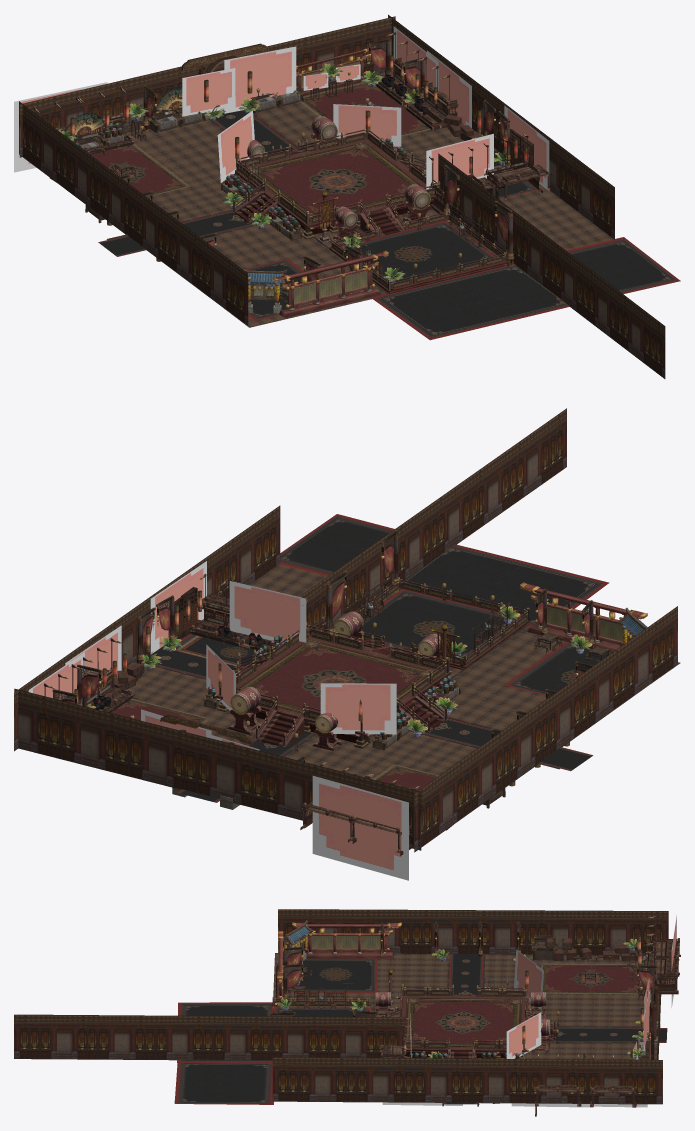
3 renders of one model, top to bottom at view 1: azimuth 30°, elevation 25°; view 2: azimuth 150°, elevation 25°; view 3: azimuth 270°, elevation 25°, orthographic. The views are drawn at different scales.
Parts seen in each view (by area): view 1: Plane004 (×3), Plane001, Object283393s002 (×3), blend01 (×9), Object283622, Plane003, build_zhiwu_Caster_Receive (×4), build_xiaoditan_Receive (×3), build_batai02_test_Caster_Receive (×2), jianzhu01_Caster_Receive (×3), build_yuanluo_wutai01_BigVertex_2, Object283620 (+13 smaller); view 2: Plane004 (×3), blend01 (×7), Plane003, Plane001, Object283393s002 (×3), Object283622, build_xiaoditan_Receive (×3), build_zhiwu_Caster_Receive (×3), build_yuanluo_wutai01_BigVertex_2, build_yuanluo_wutai7_Caster_Receive, Object283620, jianzhu01_Caster_Receive (×2) (+7 smaller); view 3: Plane004 (×3), Plane001, Object283622, Object283393s002 (×3), build_xiaoditan_Receive (×2), build_batai02_test_Caster_Receive, build_yuanluo_wutai01_Caster_BigVertex_1, build_zhiwu_Caster_Receive (×3), blend01 (×2), build_jiaju03 (×2), jianzhu02_Caster_Receive (×2), jianzhu01_Caster_Receive (×2) (+7 smaller).
Part boxes in pixels (x1=…): Plane004 (×3): x1=19, y1=14, x2=665, y2=378; Plane001: x1=126, y1=72, x2=613, y2=327; Object283393s002 (×3): x1=338, y1=220, x2=680, y2=340; blend01 (×9): x1=14, y1=26, x2=549, y2=191; Object283622: x1=233, y1=129, x2=442, y2=239; Plane003: x1=19, y1=16, x2=395, y2=157; build_zhiwu_Caster_Receive (×4): x1=75, y1=38, x2=514, y2=291; build_xiaoditan_Receive (×3): x1=98, y1=109, x2=536, y2=320; build_batai02_test_Caster_Receive (×2): x1=90, y1=82, x2=430, y2=195; jianzhu01_Caster_Receive (×3): x1=33, y1=32, x2=550, y2=215; build_yuanluo_wutai01_BigVertex_2: x1=272, y1=250, x2=388, y2=317; Object283620: x1=329, y1=209, x2=507, y2=293; Plane004 (×3): x1=14, y1=408, x2=677, y2=852; blend01 (×7): x1=28, y1=561, x2=408, y2=880; Plane003: x1=14, y1=688, x2=421, y2=850; Plane001: x1=125, y1=564, x2=680, y2=779; Object283393s002 (×3): x1=279, y1=514, x2=609, y2=665; Object283622: x1=214, y1=622, x2=451, y2=748; build_xiaoditan_Receive (×3): x1=148, y1=613, x2=610, y2=802; build_zhiwu_Caster_Receive (×3): x1=52, y1=529, x2=594, y2=746; build_yuanluo_wutai01_BigVertex_2: x1=520, y1=582, x2=647, y2=652; build_yuanluo_wutai7_Caster_Receive: x1=227, y1=611, x2=440, y2=750; Object283620: x1=355, y1=577, x2=531, y2=669; jianzhu01_Caster_Receive (×2): x1=44, y1=573, x2=326, y2=712; Plane004 (×3): x1=14, y1=909, x2=668, y2=1104; Plane001: x1=273, y1=953, x2=659, y2=1103; Object283622: x1=380, y1=984, x2=555, y2=1058; Object283393s002 (×3): x1=174, y1=1002, x2=370, y2=1104; build_xiaoditan_Receive (×2): x1=287, y1=954, x2=667, y2=1042; build_batai02_test_Caster_Receive: x1=541, y1=963, x2=638, y2=994; build_yuanluo_wutai01_Caster_BigVertex_1: x1=292, y1=922, x2=401, y2=958; build_zhiwu_Caster_Receive (×3): x1=270, y1=921, x2=657, y2=1058; blend01 (×2): x1=506, y1=949, x2=543, y2=1058; build_jiaju03 (×2): x1=277, y1=938, x2=637, y2=1043; jianzhu02_Caster_Receive (×2): x1=535, y1=940, x2=679, y2=1093; jianzhu01_Caster_Receive (×2): x1=535, y1=916, x2=680, y2=1107.
Bounding box in the file's own units: 141 × 25.88 × 227.
